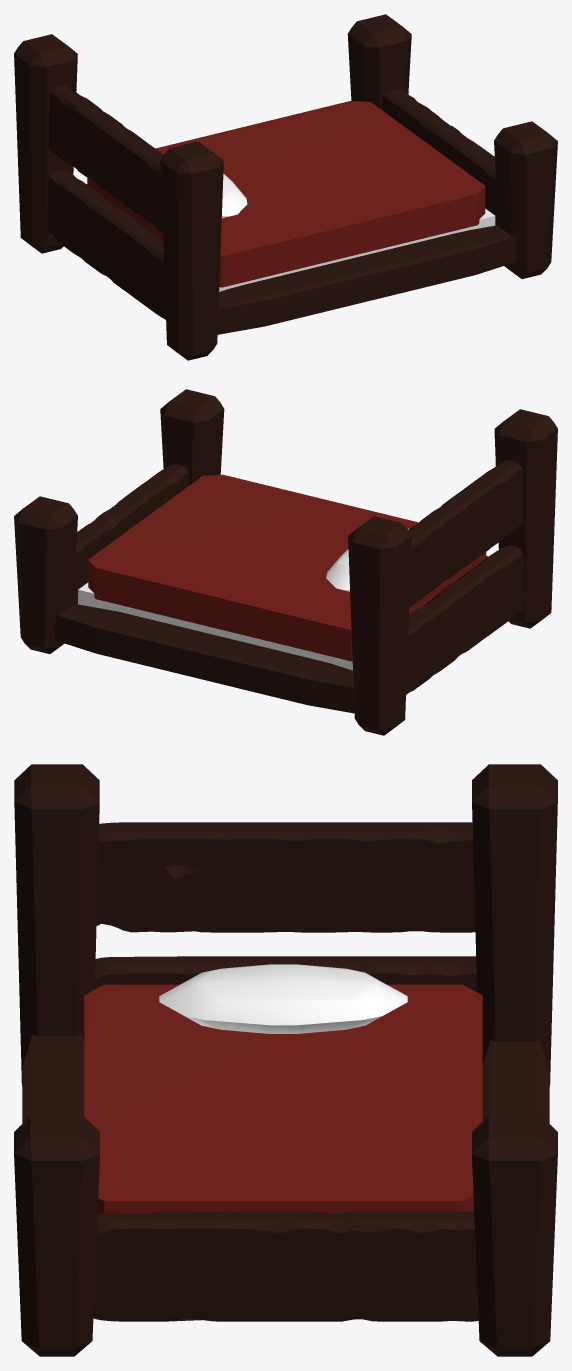
Rendered from bed.fbx.
3 views of the same model, one above another, from view 1: azimuth 30°, elevation 25°; view 2: azimuth 150°, elevation 25°; view 3: azimuth 270°, elevation 25° (orthographic). The views are drawn at different scales.
Parts seen in each view (by area): view 1: Cube.008, Cube.009, Cube.004, Cube.005, Cube.007, Cube.006, Cube, Cube.002, Cube.001, Cube.003, Cube.011; view 2: Cube.008, Cube.010, Cube.006, Cube.005, Cube.007, Cube.004, Cube.002, Cube, Cube.001, Cube.003, Cube.011; view 3: Cube.008, Cube.001, Cube.007, Cube.006, Cube.004, Cube, Cube.002, Cube.011, Cube.005, Cube.009, Cube.010.
Boxes of the visible parts, box(x1,y1,x2,y2) form: Cube.008: box(87, 101, 485, 287); Cube.009: box(216, 225, 516, 334); Cube.004: box(160, 141, 223, 360); Cube.005: box(47, 169, 165, 319); Cube.007: box(48, 84, 163, 231); Cube.006: box(14, 34, 77, 253); Cube: box(494, 121, 557, 278); Cube.002: box(347, 14, 411, 109); Cube.001: box(382, 88, 498, 225); Cube.003: box(219, 208, 495, 291); Cube.011: box(221, 174, 247, 218); Cube.008: box(88, 474, 486, 661); Cube.010: box(54, 603, 355, 713); Cube.006: box(348, 516, 411, 735); Cube.005: box(406, 545, 524, 694); Cube.007: box(408, 460, 523, 607); Cube.004: box(494, 409, 557, 628); Cube.002: box(14, 496, 77, 653); Cube: box(160, 389, 224, 484); Cube.001: box(73, 464, 189, 604); Cube.003: box(78, 582, 352, 670); Cube.011: box(326, 528, 408, 591); Cube.008: box(84, 984, 482, 1213); Cube.001: box(93, 1211, 479, 1321); Cube.007: box(96, 822, 475, 932); Cube.006: box(472, 764, 557, 1085); Cube.004: box(14, 764, 99, 1085); Cube: box(14, 1116, 99, 1356); Cube.002: box(472, 1116, 557, 1356); Cube.011: box(159, 964, 407, 1033); Cube.005: box(95, 956, 476, 991); Cube.009: box(22, 1034, 84, 1123); Cube.010: box(482, 1040, 549, 1123).
Bounding box in the file's own units: 267 × 136 × 210.
